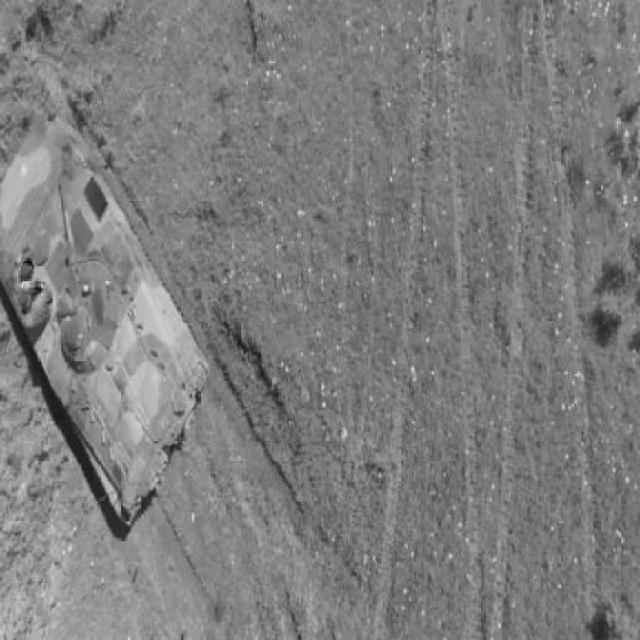Vehicle: (1, 99, 212, 532)
